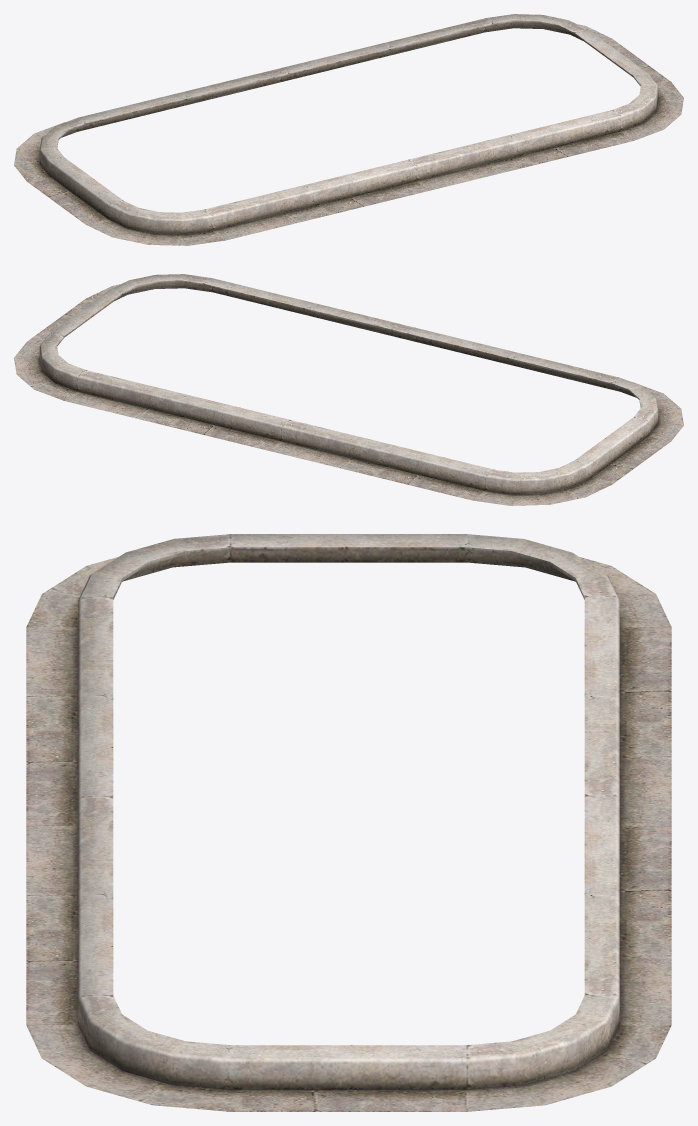
File: pavement_corner_round_out_small003_modular_pavement_old_0_lev1.glb
The picture shows the model from 3 angles, top to bottom: view 1: azimuth 30°, elevation 25°; view 2: azimuth 150°, elevation 25°; view 3: azimuth 270°, elevation 25°; orthographic projection. The views are drawn at different scales.
Parts seen in each view (by area): view 1: pavement_corner_round_out_small003_modular_pavement_old_0_le; view 2: pavement_corner_round_out_small003_modular_pavement_old_0_le; view 3: pavement_corner_round_out_small003_modular_pavement_old_0_le.
Part boxes in pixels (bbox=[...]): pavement_corner_round_out_small003_modular_pavement_old_0_le: bbox=[14, 14, 683, 245]; pavement_corner_round_out_small003_modular_pavement_old_0_le: bbox=[14, 274, 683, 505]; pavement_corner_round_out_small003_modular_pavement_old_0_le: bbox=[26, 534, 671, 1111].
Size of the model in its own units: 1.97 by 0.0482 by 0.9388.
Materials: 1 (1 with a texture image).
